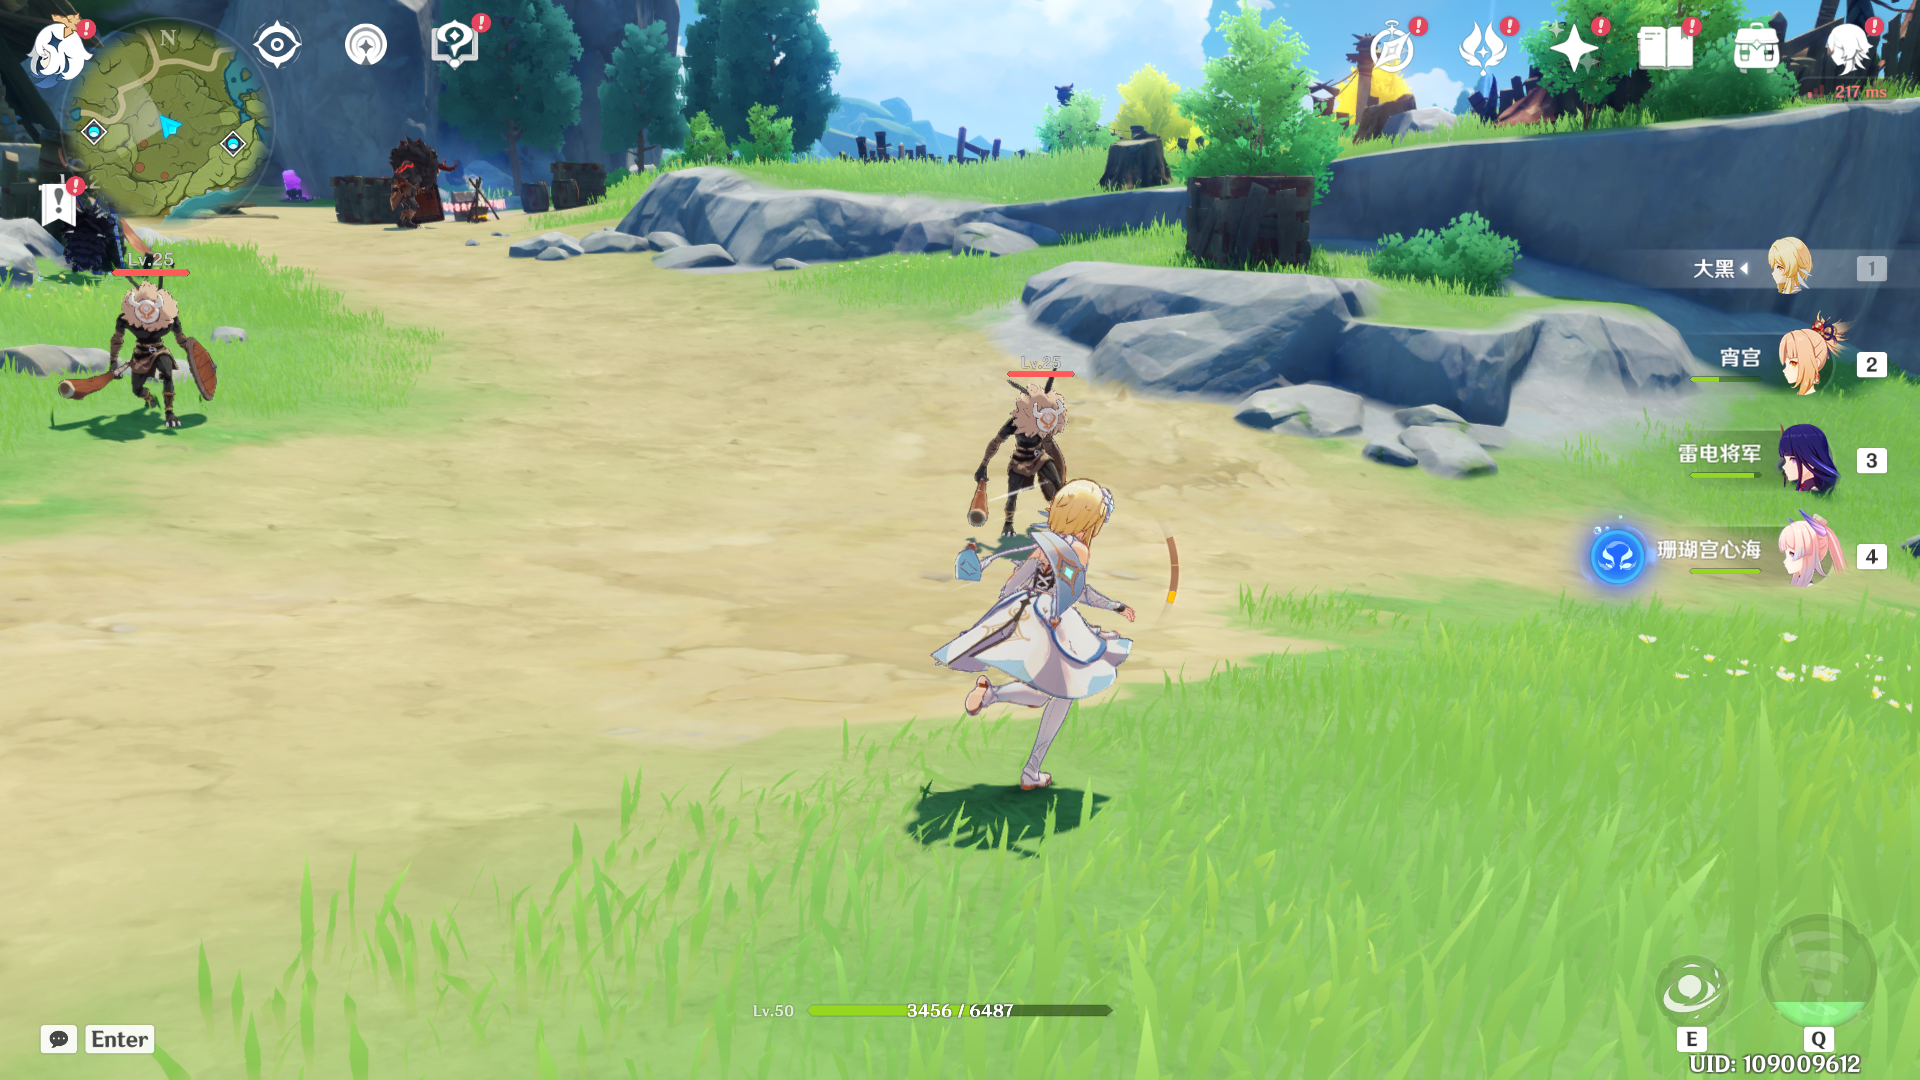bighili: (372, 127, 473, 248)
character: (916, 471, 1205, 806)
hili: (57, 253, 244, 455), (951, 363, 1120, 563)
